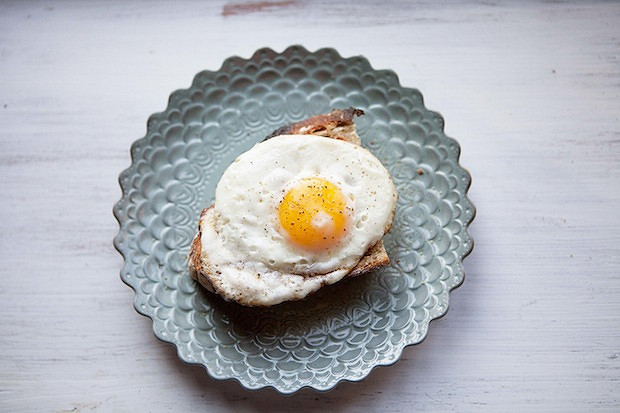fried egg: (217, 150, 372, 291)
slice of bread: (273, 107, 377, 146), (186, 220, 218, 304), (353, 241, 398, 286)
